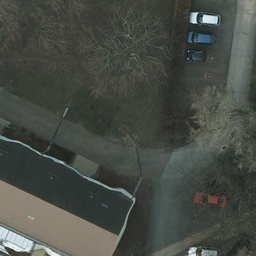car: (194, 190, 227, 209), (184, 27, 216, 44), (188, 12, 219, 28), (185, 46, 207, 64)
